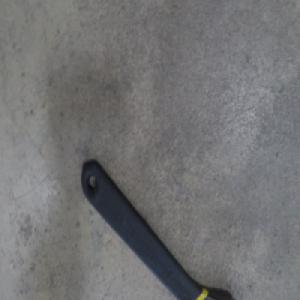AdjustableWrench: (82, 164, 237, 300)
